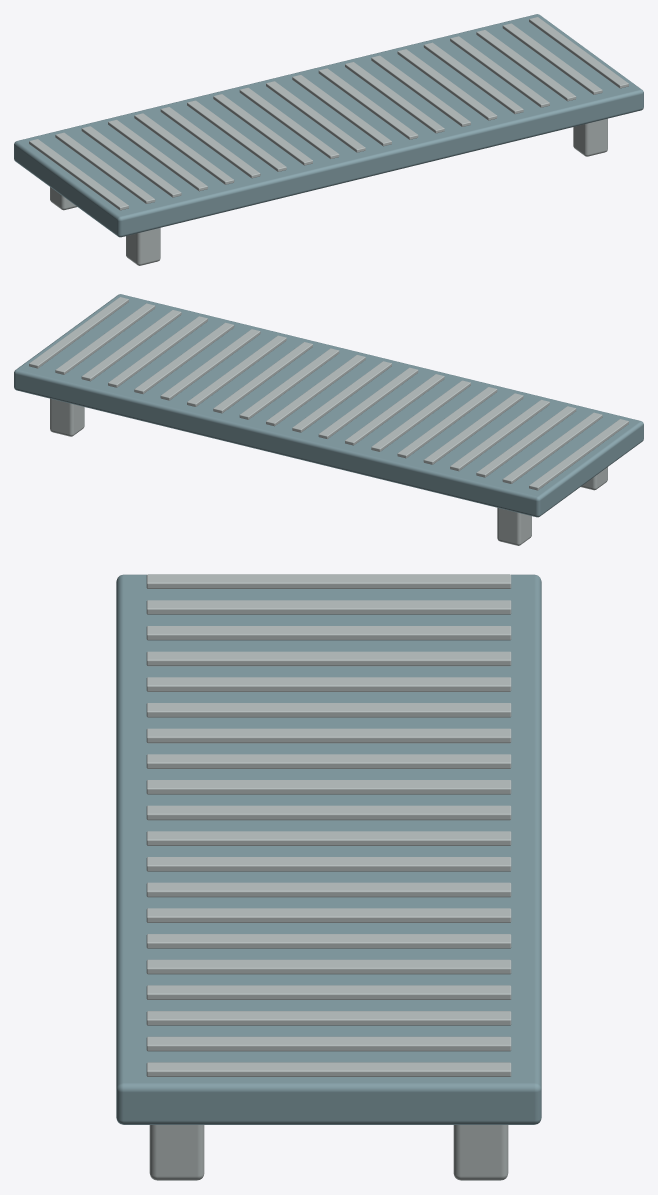
File: abandoned-tidal-model-testing-hall-maintenance-walkway-9d6b8bf1__32374.glb
3 renders of one model, top to bottom at view 1: azimuth 30°, elevation 25°; view 2: azimuth 150°, elevation 25°; view 3: azimuth 270°, elevation 25°, orthographic. The views are drawn at different scales.
Visible parts, largest first — view 1: maintenance-walkway; view 2: maintenance-walkway; view 3: maintenance-walkway.
Part boxes in pixels (bbox=[...]): maintenance-walkway: bbox=[14, 14, 643, 265]; maintenance-walkway: bbox=[14, 294, 643, 545]; maintenance-walkway: bbox=[116, 574, 541, 1180].
Bounding box in the file's own units: 2 × 0.2369 × 0.7.
